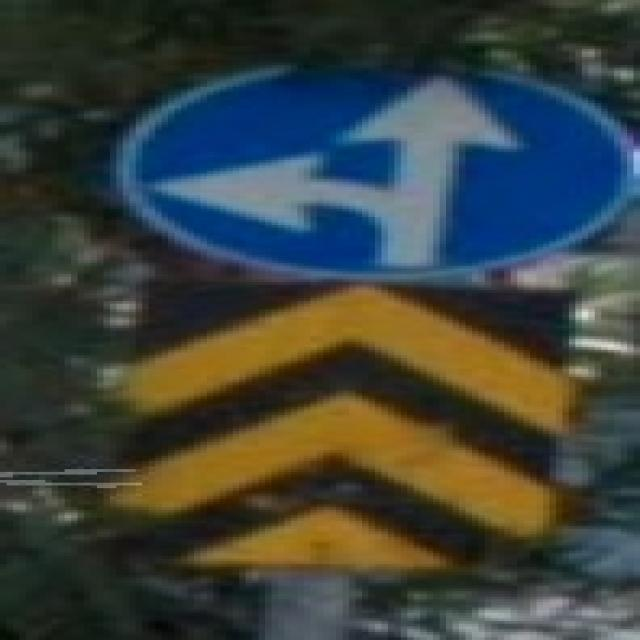Straight or Left: (117, 59, 640, 282)
